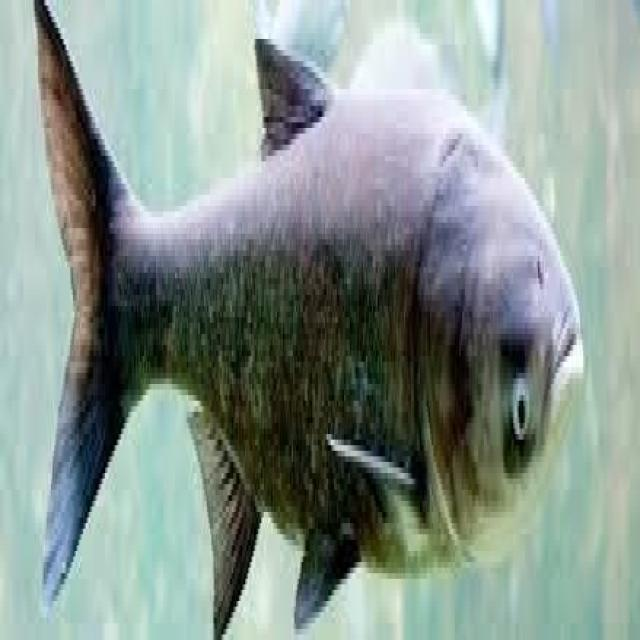Big-Head-Carp: (7, 8, 609, 600)
